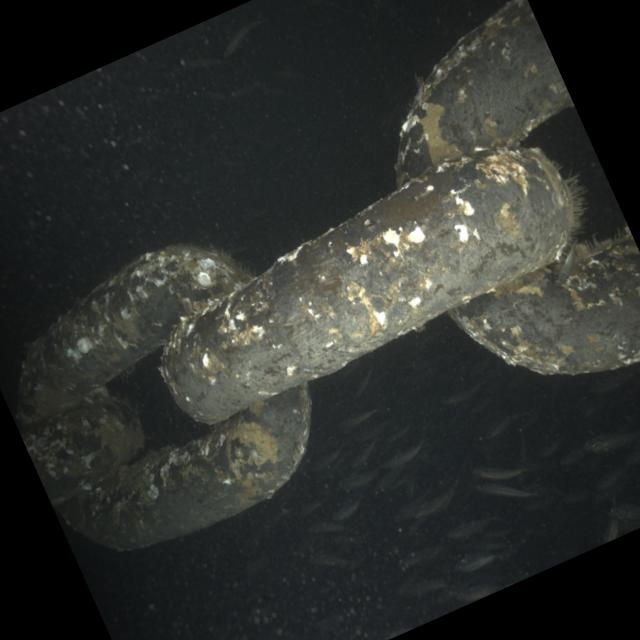ChainLink: (162, 147, 575, 421), (58, 383, 310, 550), (19, 244, 252, 424), (396, 0, 574, 184), (449, 225, 640, 374), (20, 394, 143, 506)
